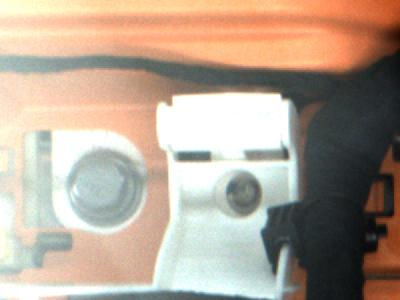nut_b: (66, 145, 146, 238)
